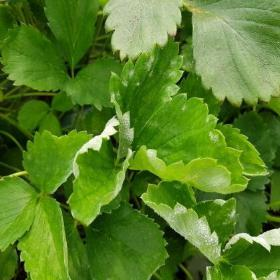Powdery Mildew Leaf: (127, 92, 250, 194), (108, 34, 185, 159), (140, 180, 239, 265), (66, 114, 133, 227), (205, 227, 279, 279)
